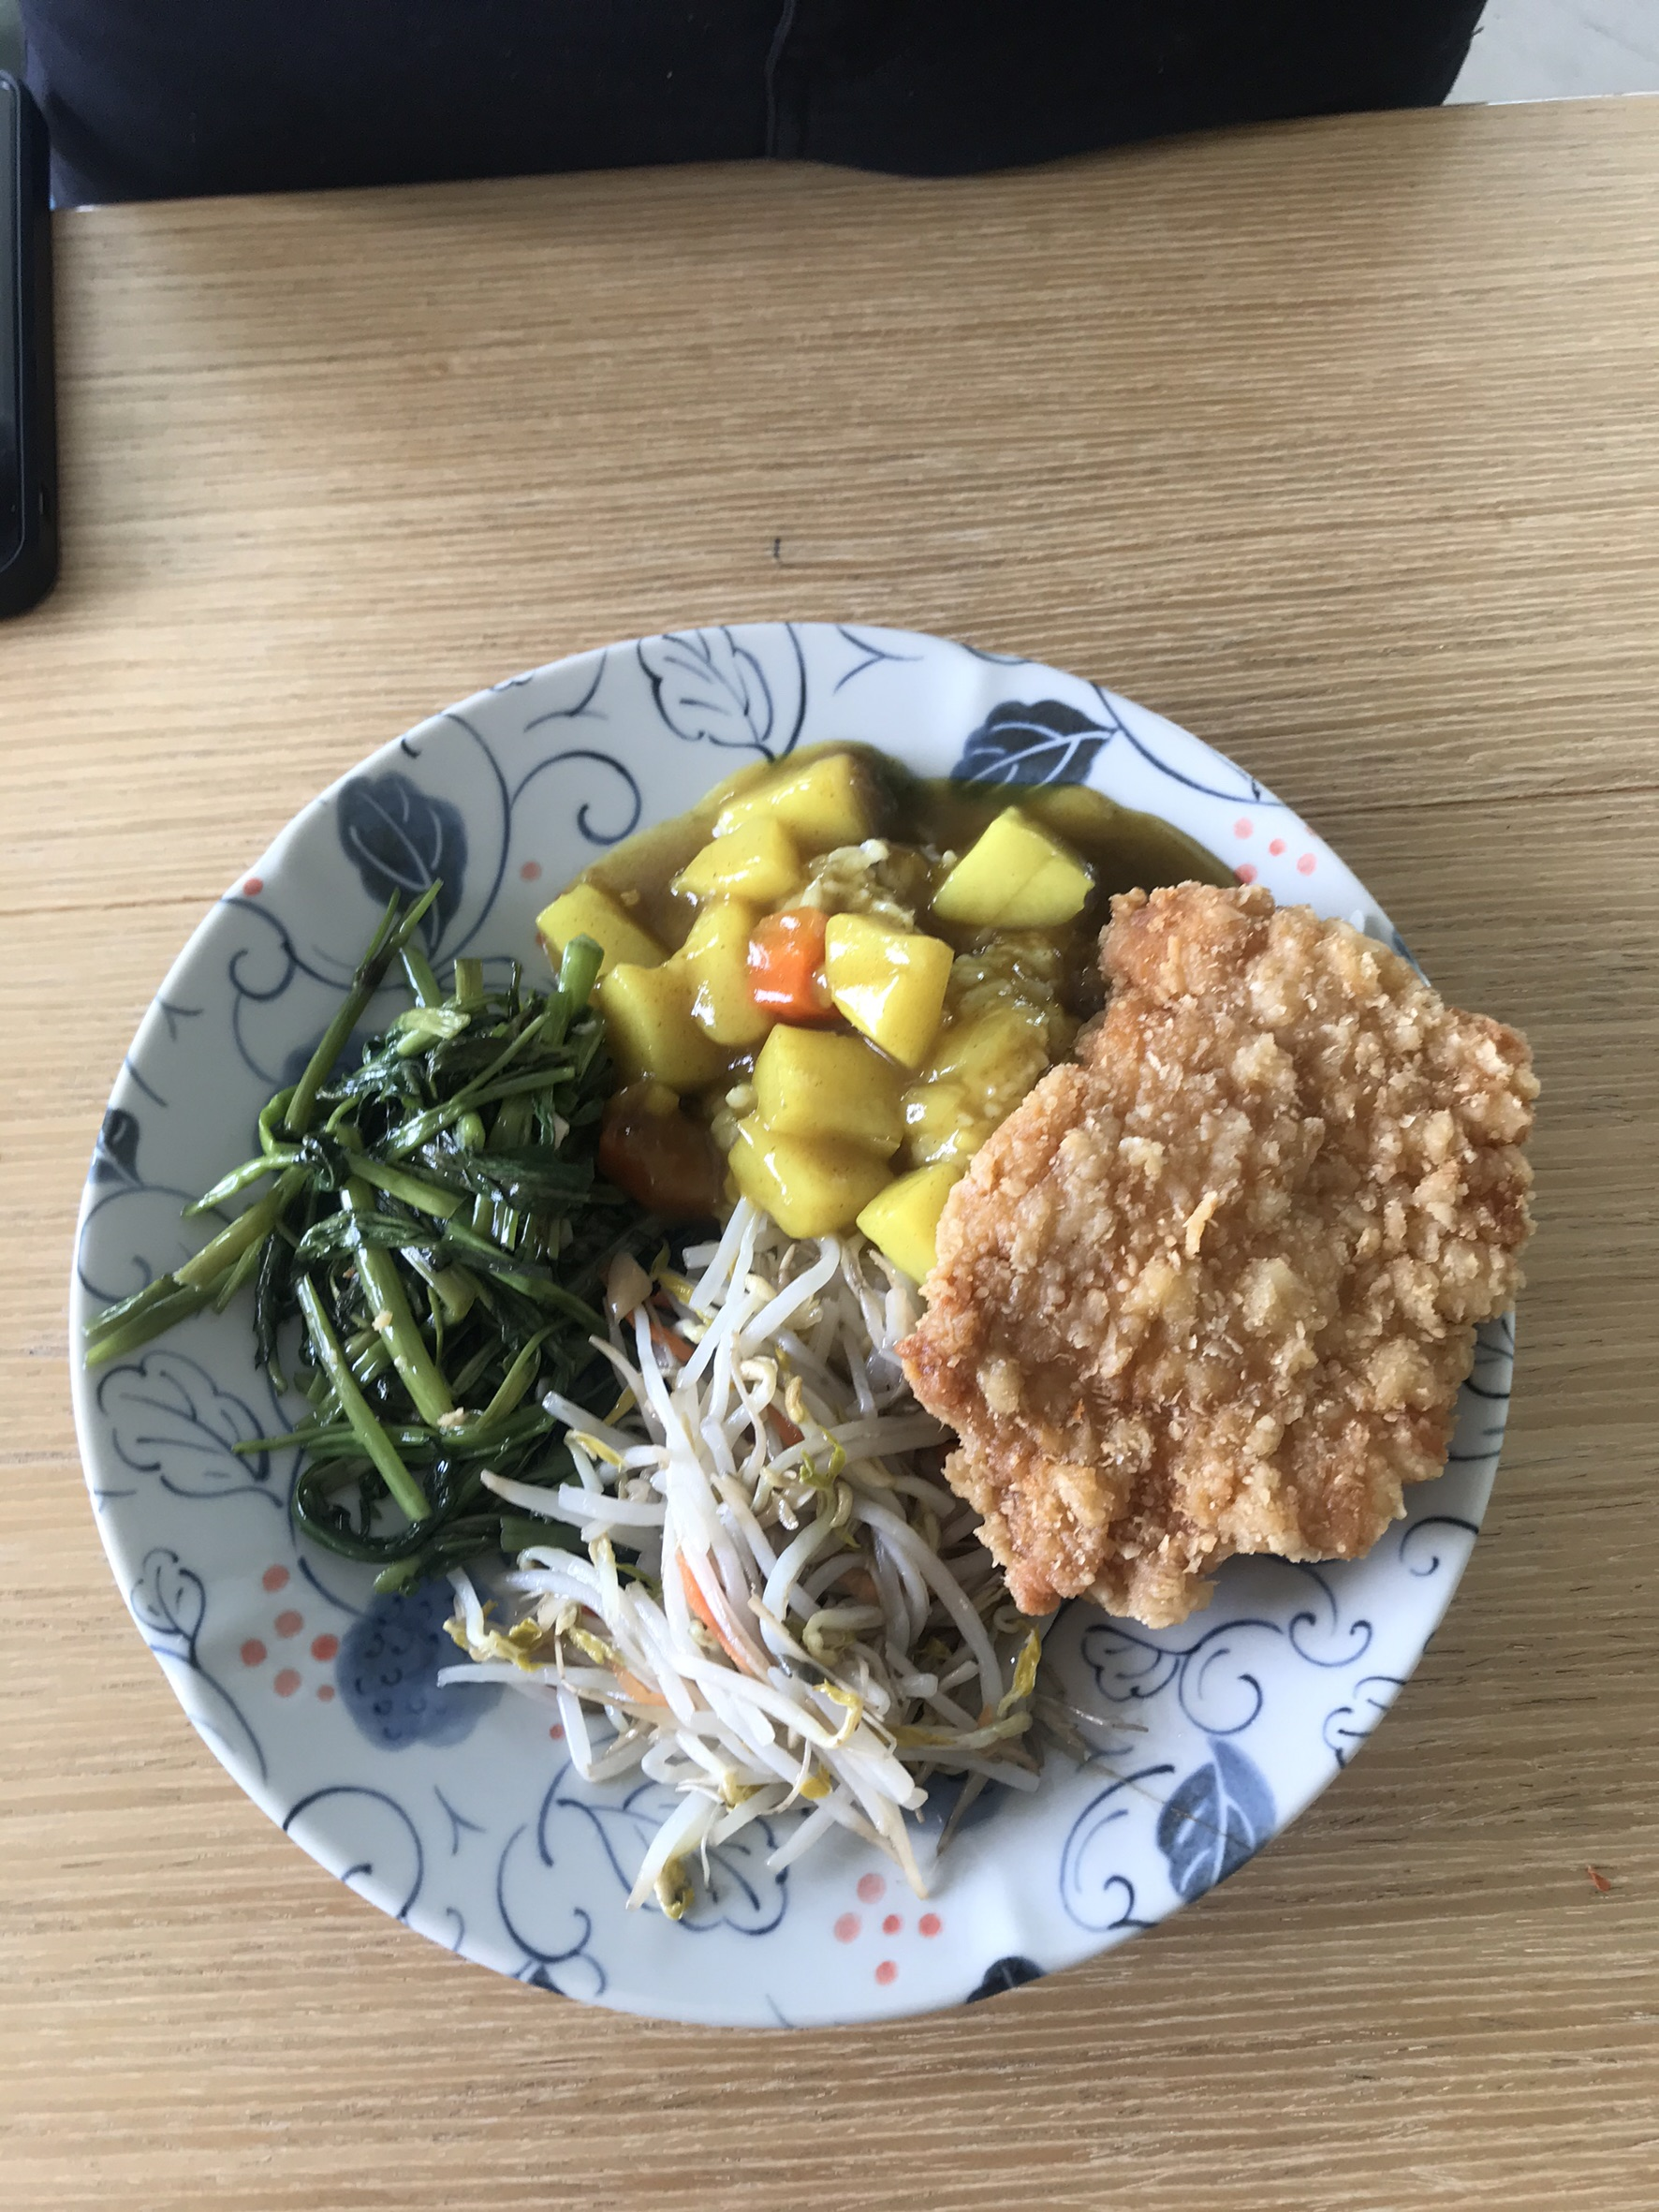curry: (647, 812, 1033, 1149)
fried_chicken: (1019, 967, 1453, 1567)
mung_bean_sprouts: (599, 1248, 920, 1856)
water_spinach: (258, 1002, 582, 1478)
